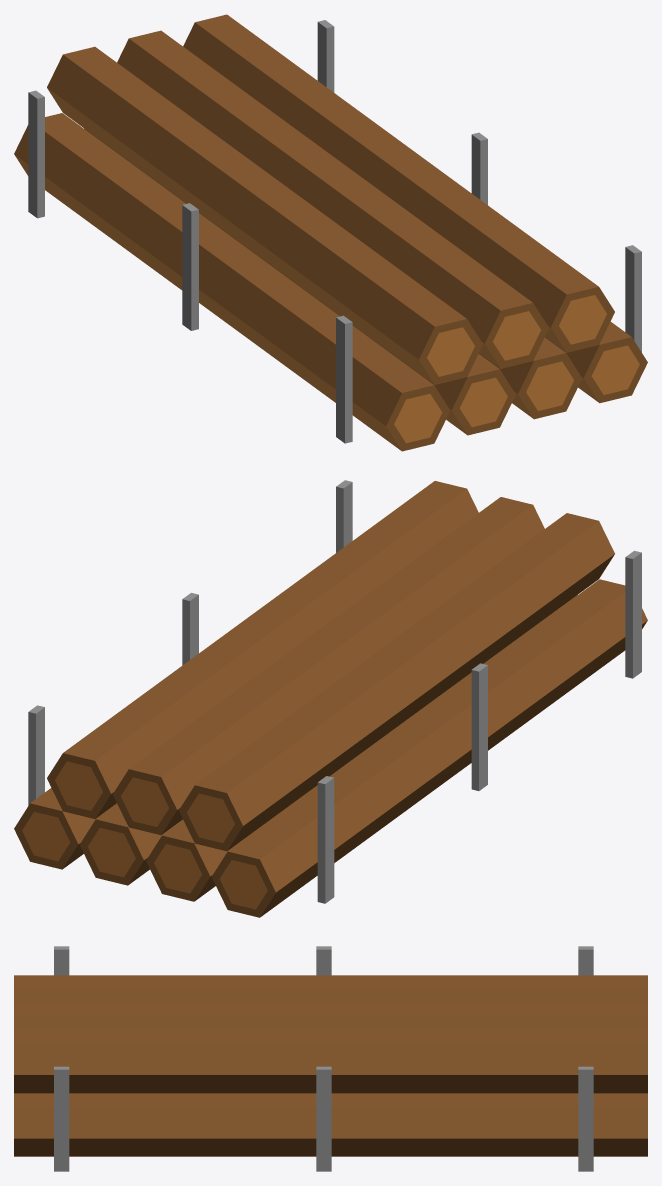
File: Goods_Wood.glb
3 renders of one model, top to bottom at view 1: azimuth 30°, elevation 25°; view 2: azimuth 150°, elevation 25°; view 3: azimuth 270°, elevation 25°, orthographic. The views are drawn at different scales.
Visible parts, largest first — view 1: Object_62.004; view 2: Object_62.004; view 3: Object_62.004.
Part boxes in pixels (bbox=[...]): Object_62.004: bbox=[14, 14, 647, 451]; Object_62.004: bbox=[14, 480, 647, 917]; Object_62.004: bbox=[14, 946, 647, 1171].
Bounding box in the file's own units: 3.9 × 1.5 × 8.46.
1 material, 1 textured.
